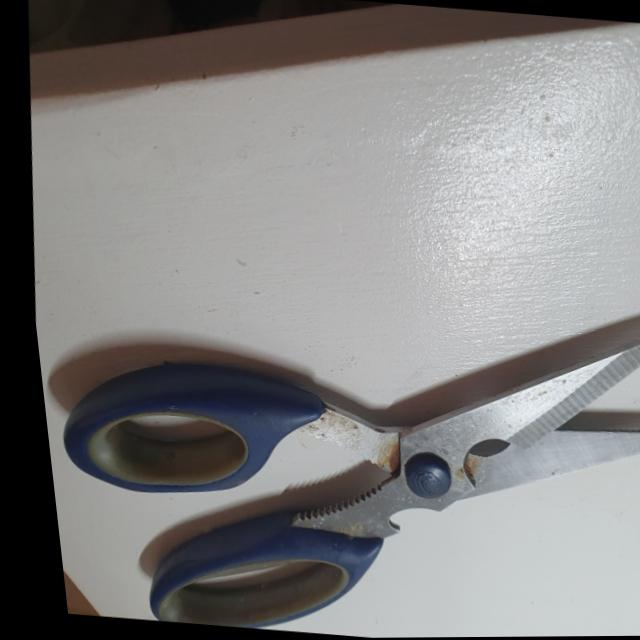scissor: (24, 265, 640, 640)
